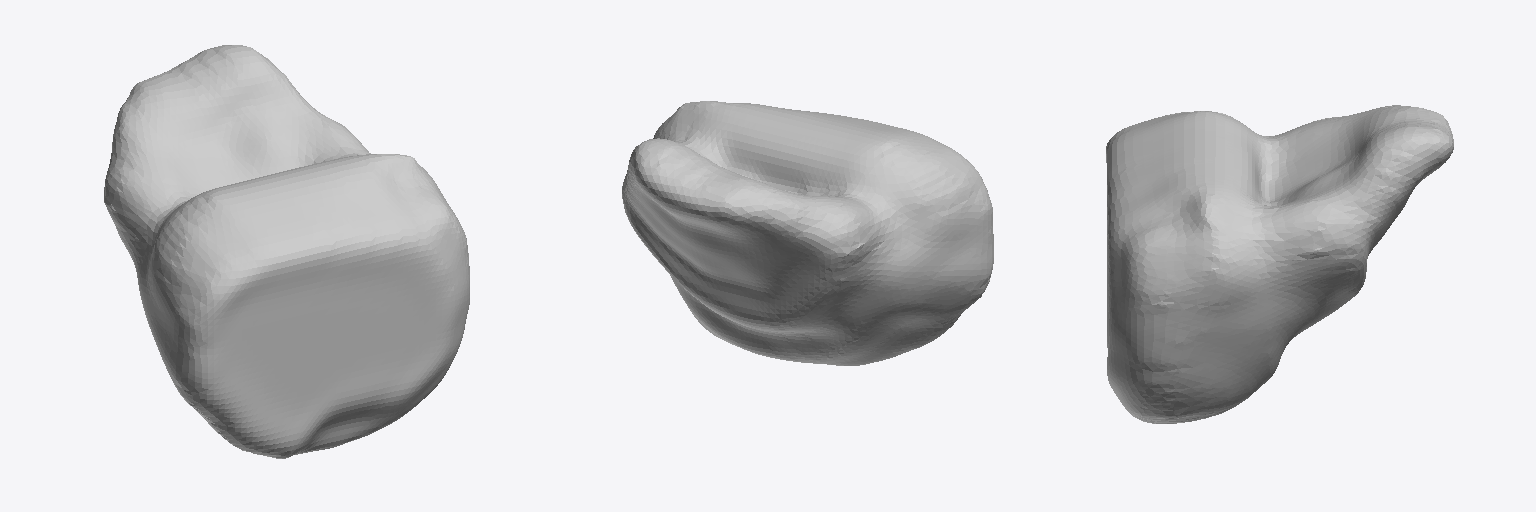
The model's file is prostate.obj.
3 views of the same model, side by side, from view 1: azimuth 30°, elevation 25°; view 2: azimuth 150°, elevation 25°; view 3: azimuth 270°, elevation 25° (orthographic).
Visible parts, largest first — view 1: grp1; view 2: grp1; view 3: grp1.
Part boxes in pixels (left/top/right/bottom): grp1: left=104, top=45, right=469, bottom=458; grp1: left=622, top=101, right=993, bottom=365; grp1: left=1106, top=105, right=1453, bottom=423.
Size of the model in its own units: 53.02 by 49.87 by 53.36.